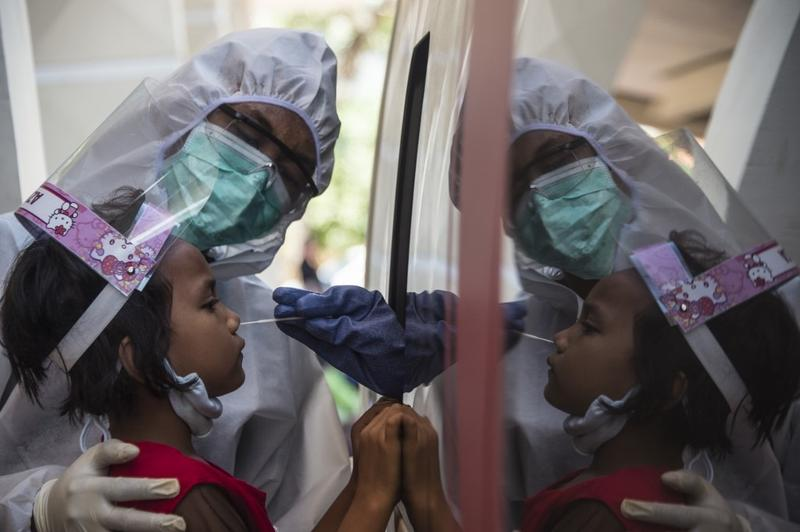Coverall: (1, 24, 359, 532)
Face_Shield: (16, 85, 215, 303)
Gloves: (267, 283, 406, 408), (28, 432, 193, 532)
mask_weared_incorrect: (151, 254, 251, 445), (539, 298, 619, 449)
with_mask: (167, 109, 310, 250), (508, 156, 618, 272)
